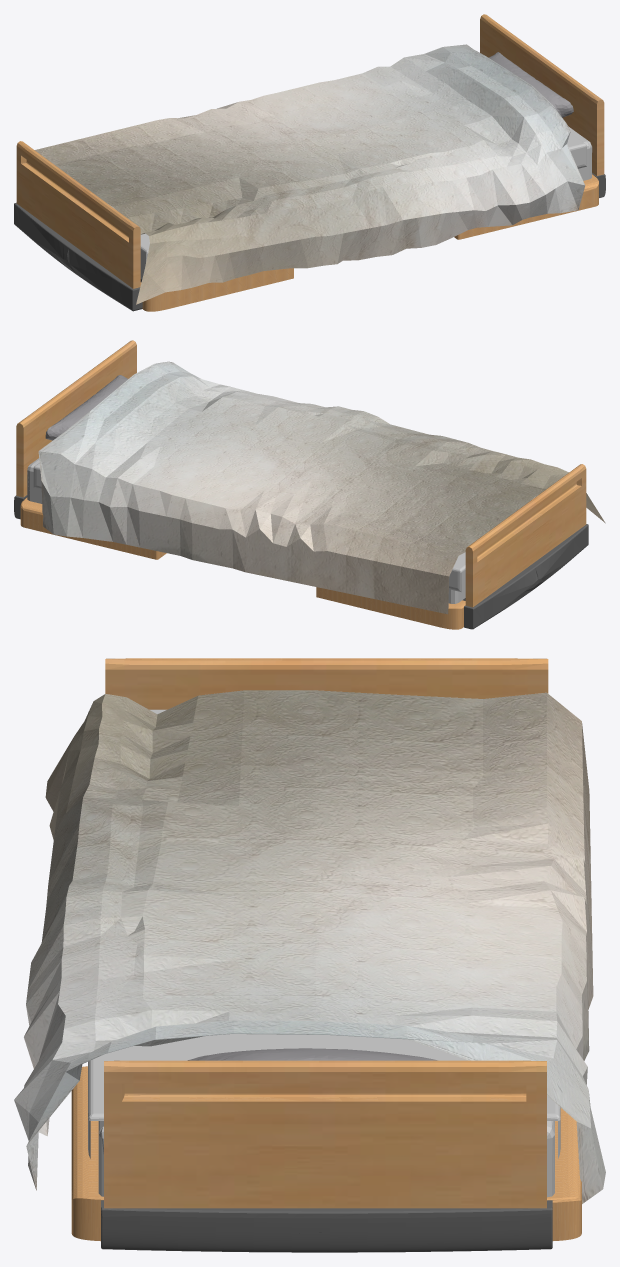
File: paramount_bed.dae
The picture shows the model from 3 angles, top to bottom: view 1: azimuth 30°, elevation 25°; view 2: azimuth 150°, elevation 25°; view 3: azimuth 270°, elevation 25°; orthographic projection. The views are drawn at different scales.
Visible parts, largest first — view 1: huton_2, wood_2 (×2), wood2_2 (×2), gray_part_2, pillow_2, carpet_2, bed_under_2; view 2: huton_2, wood_2 (×2), wood2_2 (×2), gray_part_2, pillow_2, bed_under_2, carpet_2; view 3: huton_2, wood_2 (×2), gray_part_2, wood2_2 (×2), carpet_2, pillow_2, bed_under_2.
Part boxes in pixels (x1,y1,x2,y2): huton_2: (34,44,585,304); wood_2 (×2): (16,14,604,288); wood2_2 (×2): (140,174,598,311); gray_part_2: (14,202,142,311); pillow_2: (489,52,573,117); carpet_2: (108,133,586,261); bed_under_2: (140,126,592,279); huton_2: (38,361,605,614); wood_2 (×2): (16,340,586,607); wood2_2 (×2): (20,497,465,629); gray_part_2: (464,524,588,629); pillow_2: (45,375,127,440); bed_under_2: (27,458,465,603); carpet_2: (33,463,537,592); huton_2: (14,690,605,1203); wood_2 (×2): (104,658,548,1208); gray_part_2: (101,1200,552,1252); wood2_2 (×2): (71,1066,581,1241); carpet_2: (88,709,560,1158); pillow_2: (187,1048,437,1060); bed_under_2: (98,1121,554,1197).
Size of the model in its own units: 77.35 by 43.15 by 17.14.
6 materials, 2 textured.
